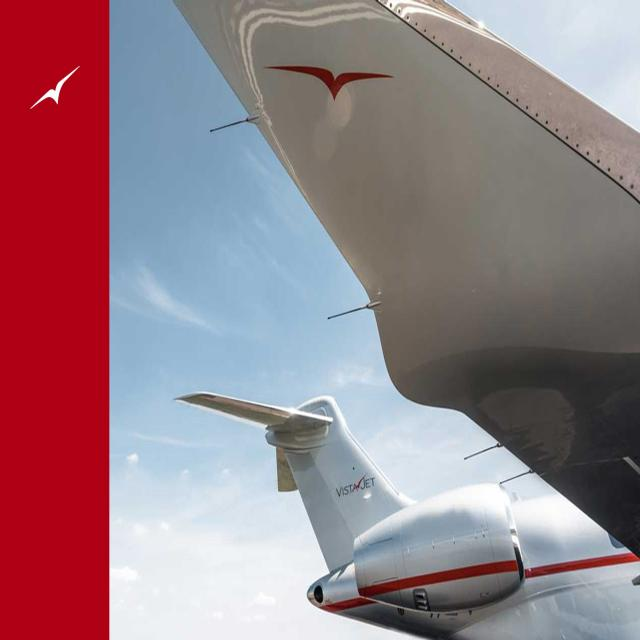jet: (174, 296, 640, 640)
